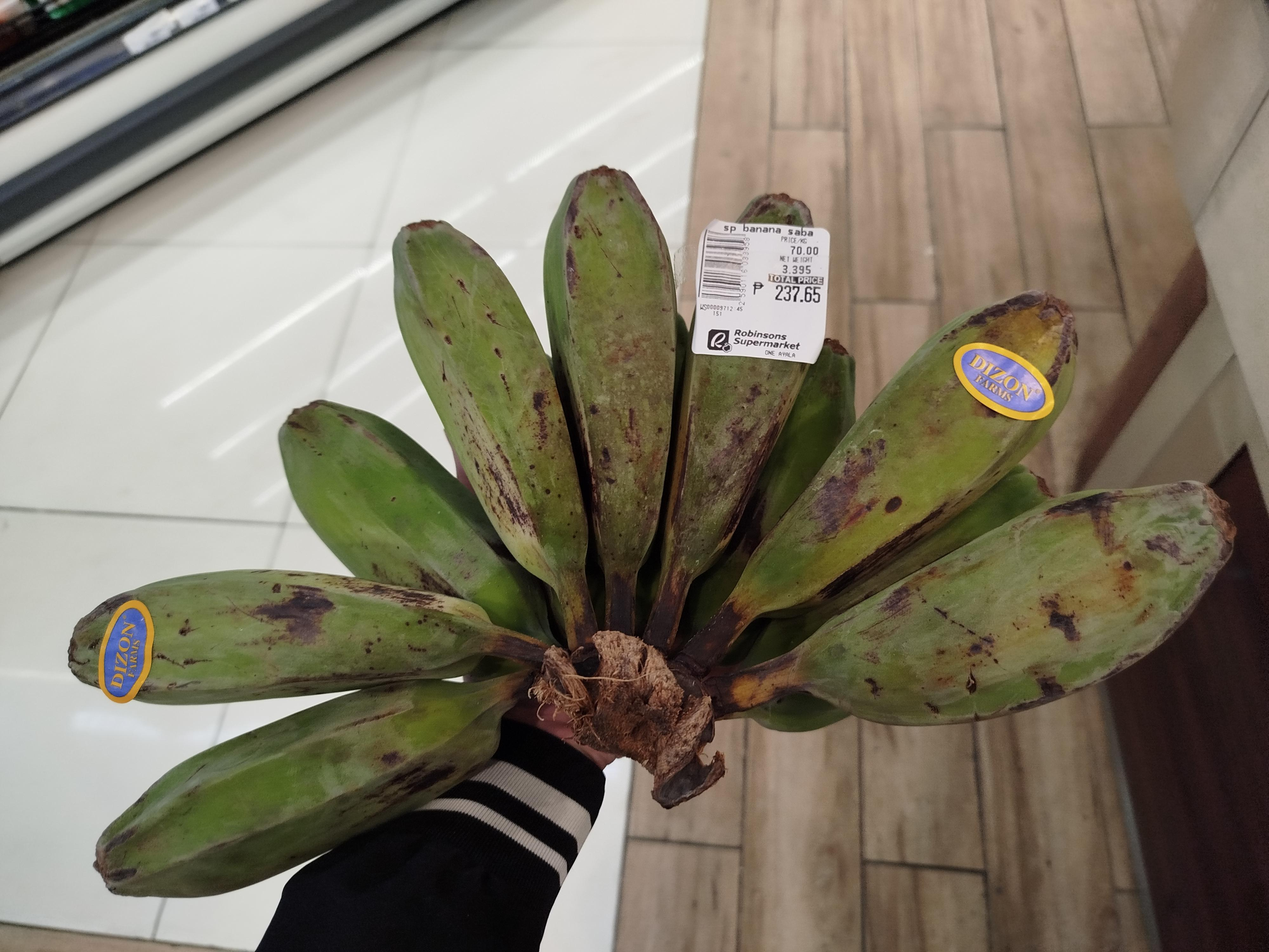underripe: (72, 167, 1235, 897)
